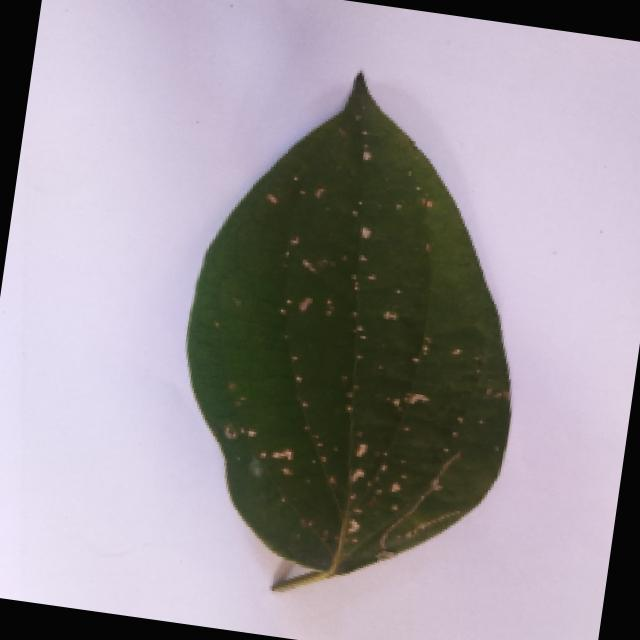pollu-disease: (143, 58, 570, 623)
